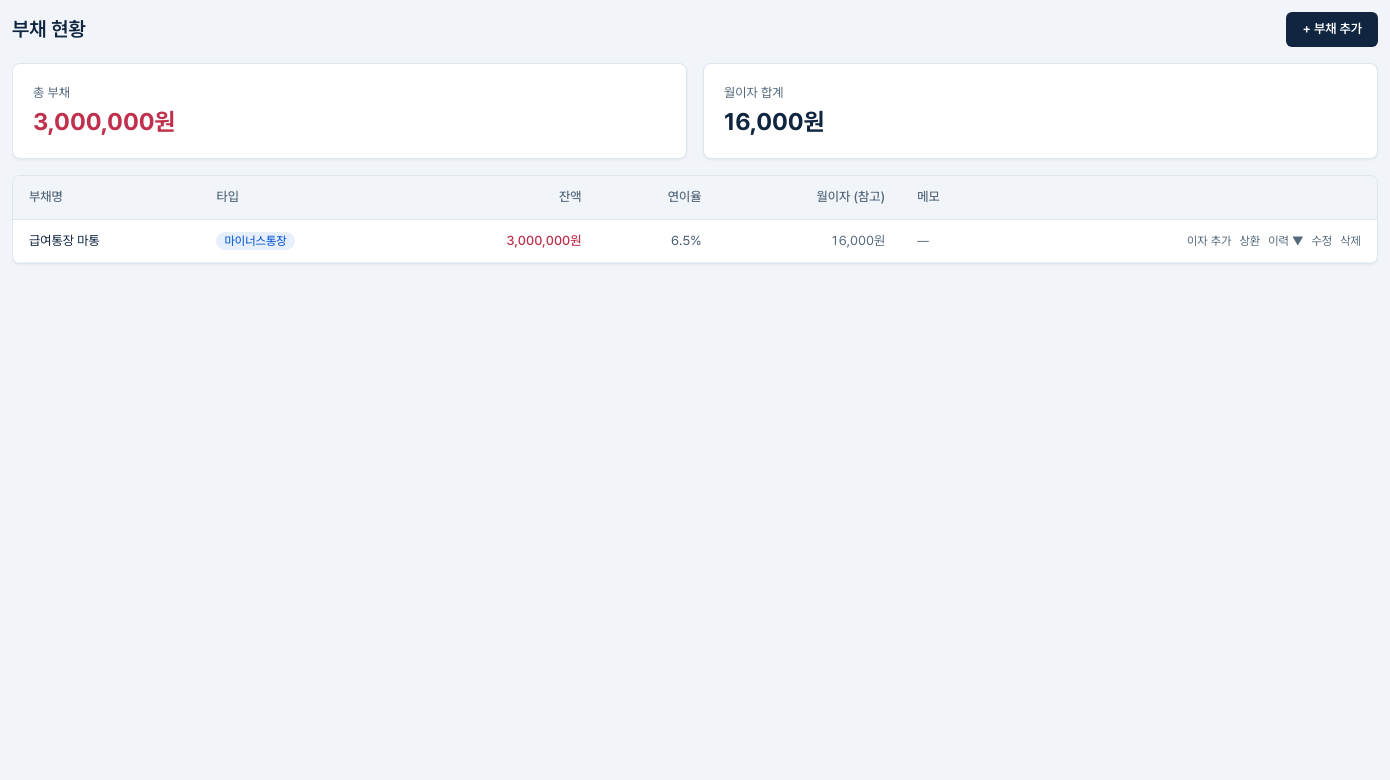
이력 펼치기 › 한 번 부른 이력은 다시 부르지 않는다
The width and height of the screenshot is (1390, 780).
Expected: the text "급여통장 마통" is shown, [13,219,200,263]
What coordinates should you click on to do the following:
click the button "이력 ▼"
I would click on:
 (1286, 241)
Its box is [1268,233,1304,249].
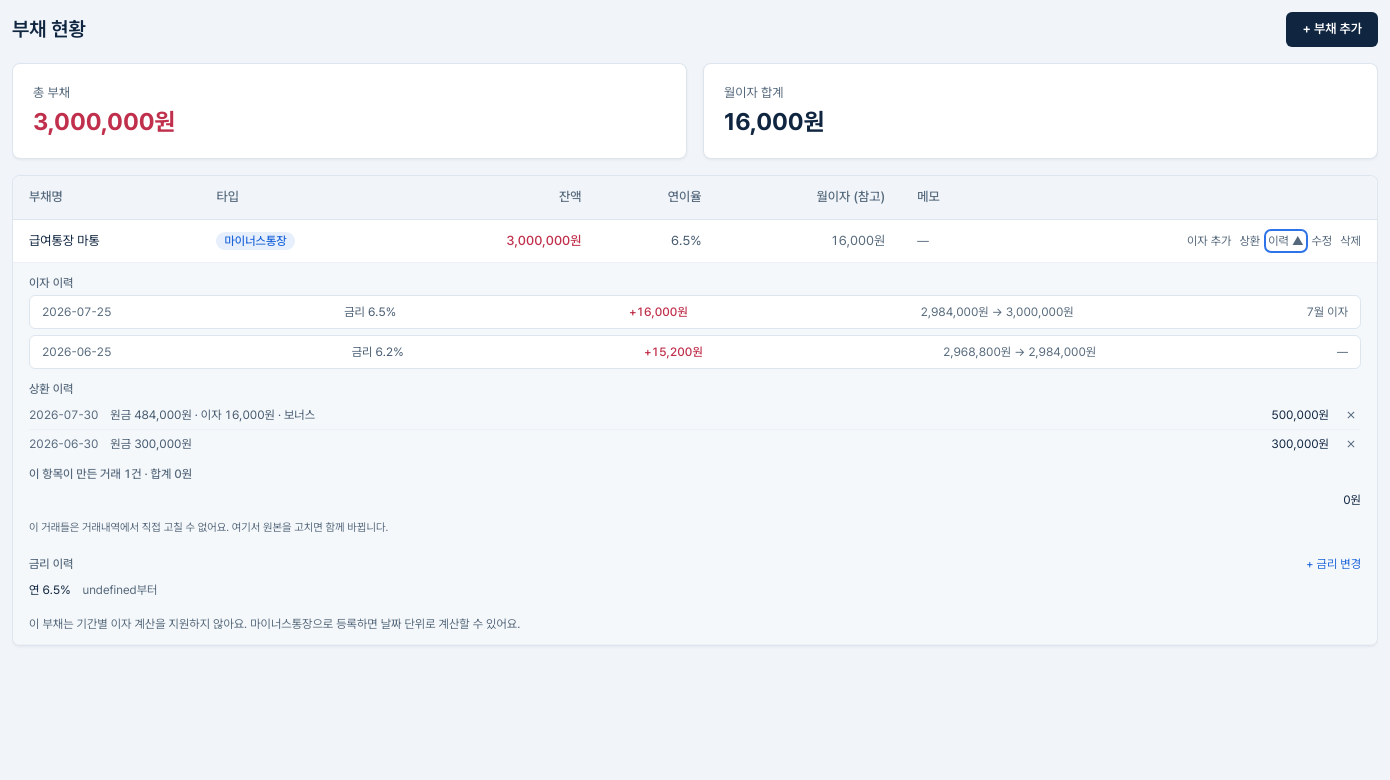
Result: the heading "이자 이력" is shown at [29,276,73,290]
What coordinates should you click on to do the following:
click the button "이력 ▲"
I would click on:
 (1286, 241)
Its box is [1268,233,1304,249].
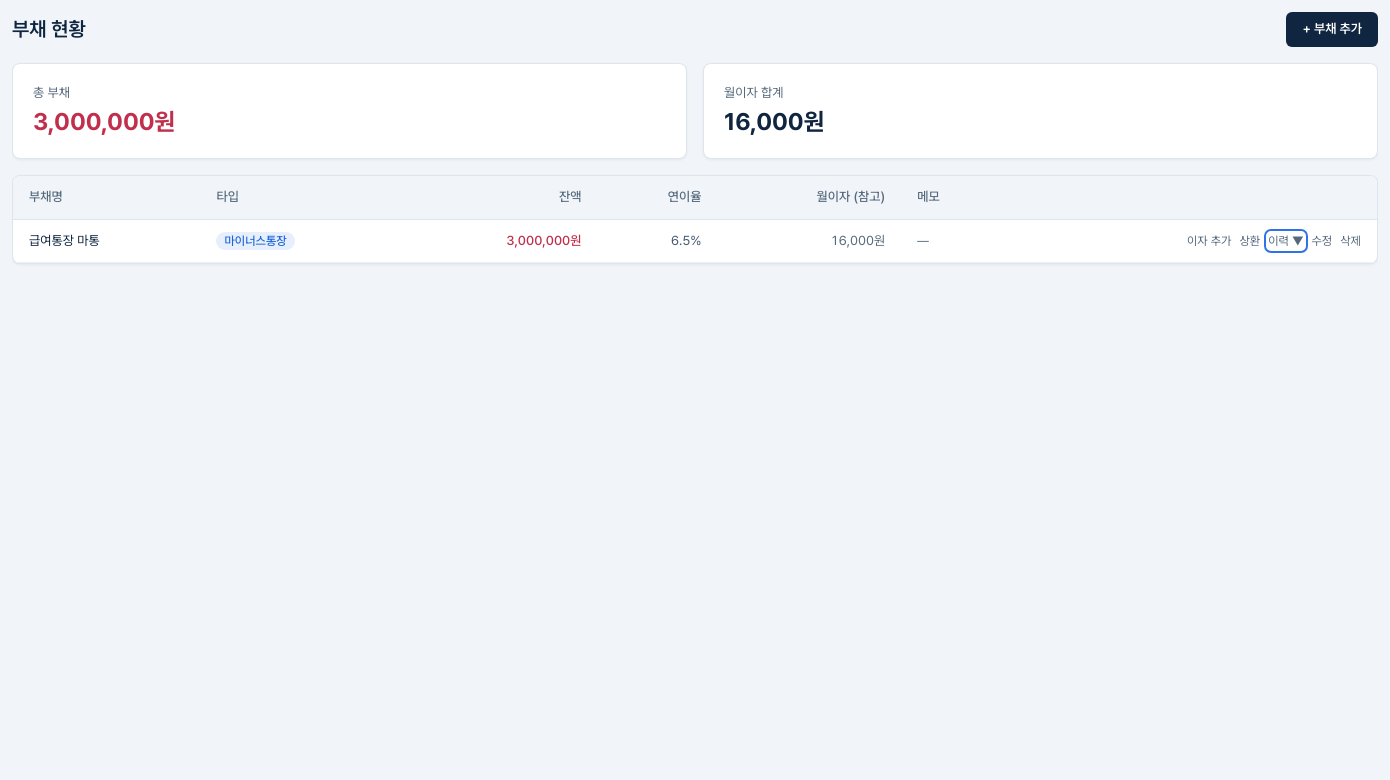
What coordinates should you click on to do the following:
click the button "이력 ▼"
I would click on:
 (1286, 241)
Its box is [1268,233,1304,249].
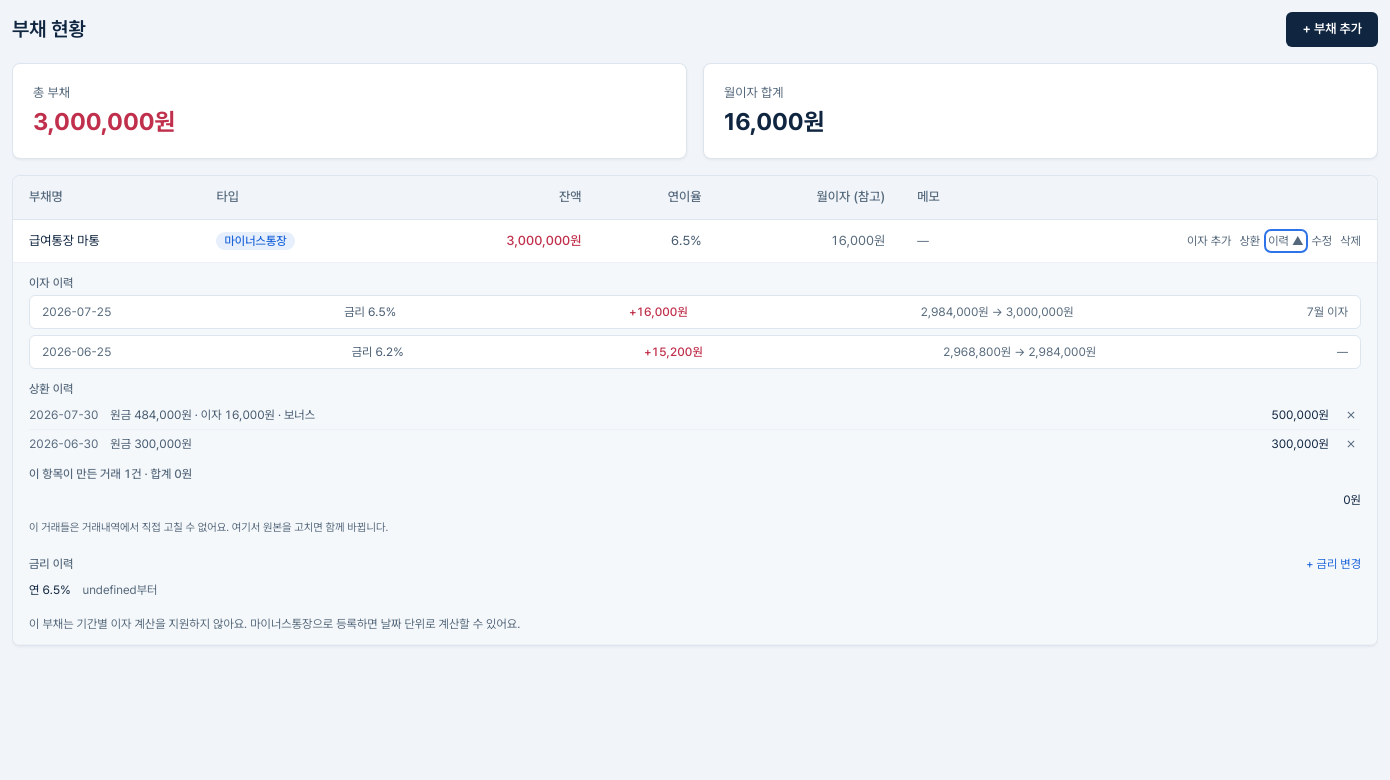
Result: the heading "이자 이력" is shown at [29,276,73,290]
